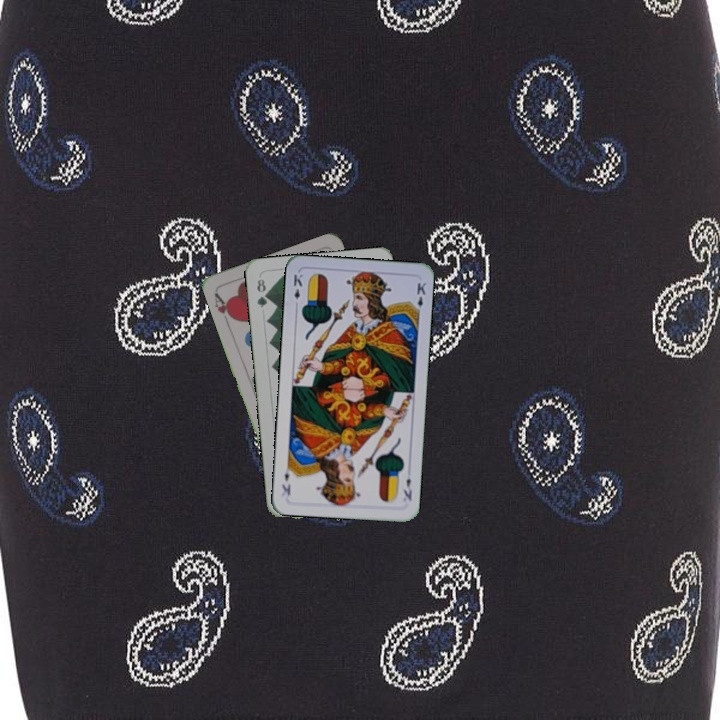EK: (290, 270, 305, 310), (399, 475, 414, 503)
G8: (253, 275, 271, 310)
HA: (210, 288, 237, 327)
